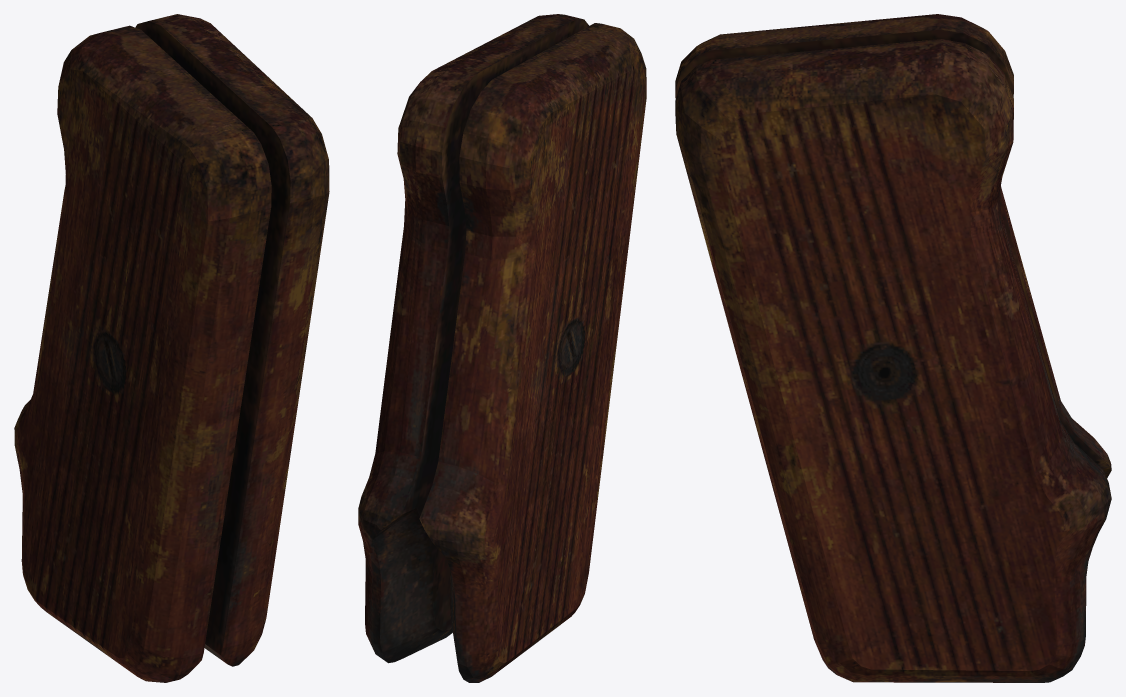
The picture shows the model from 3 angles, left to right: view 1: azimuth 30°, elevation 25°; view 2: azimuth 150°, elevation 25°; view 3: azimuth 270°, elevation 25°; orthographic projection. The views are drawn at different scales.
Visible parts, largest first — view 1: TW_6513f13a8cb24472490ee32f_PZ_Import; view 2: TW_6513f13a8cb24472490ee32f_PZ_Import; view 3: TW_6513f13a8cb24472490ee32f_PZ_Import.
Boxes of the visible parts, <box> form: TW_6513f13a8cb24472490ee32f_PZ_Import: <box>14,14,329,682</box>; TW_6513f13a8cb24472490ee32f_PZ_Import: <box>358,14,646,682</box>; TW_6513f13a8cb24472490ee32f_PZ_Import: <box>675,14,1111,682</box>.
Bounding box in the file's own units: 0.0141 × 0.0364 × 0.0574.
1 material, 1 textured.
